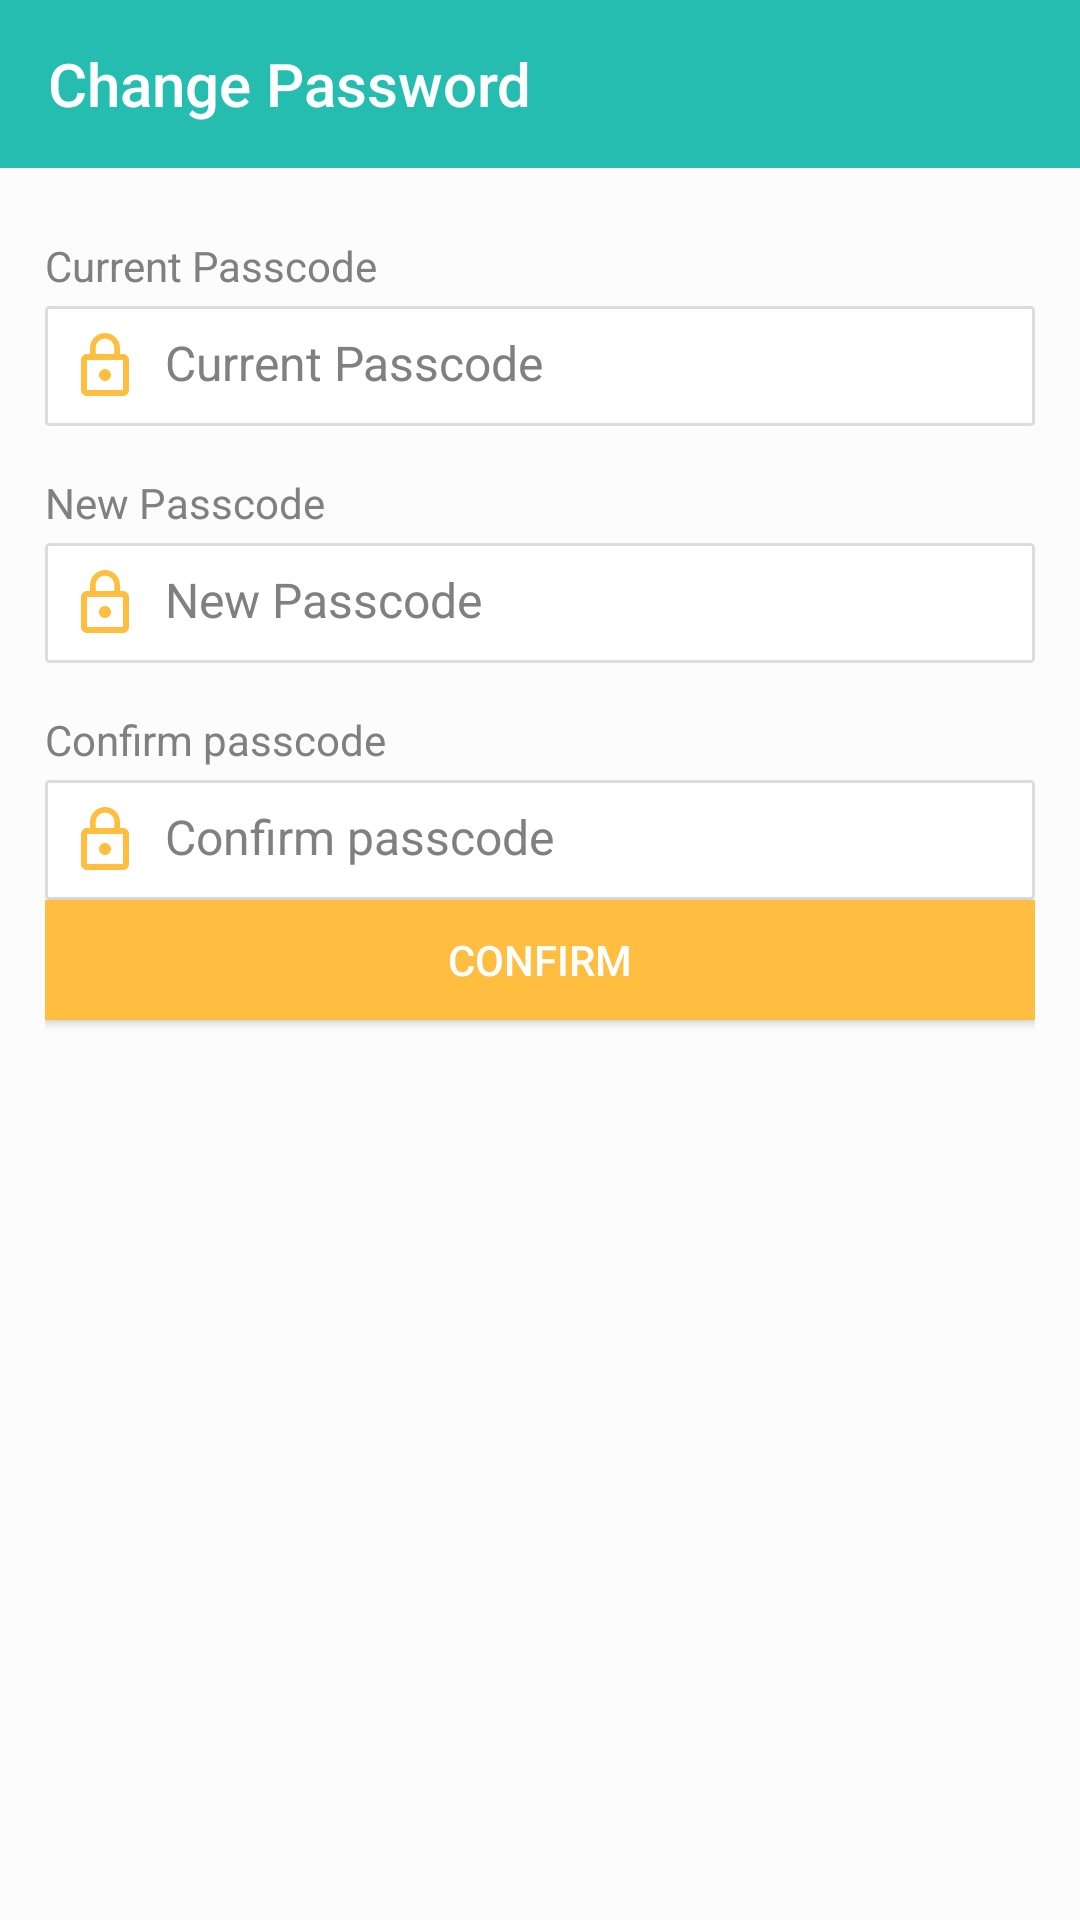

Point at icon controls on the screen. Image size 1080 × 1920, points as point (x, y).
lock: point (105, 364), point (105, 601), point (105, 838)
